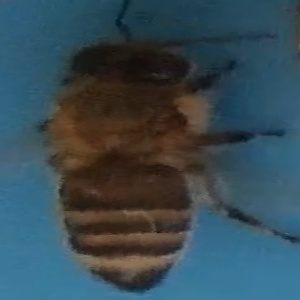bee: (33, 19, 280, 295)
